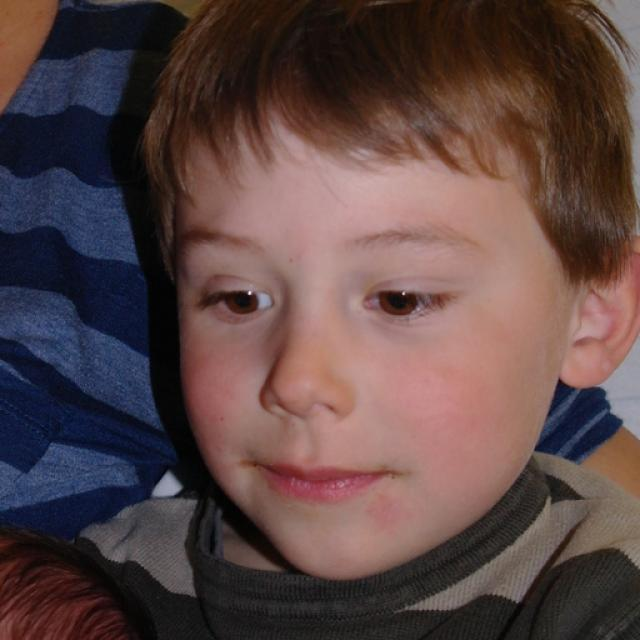neutral: (172, 103, 562, 578)
